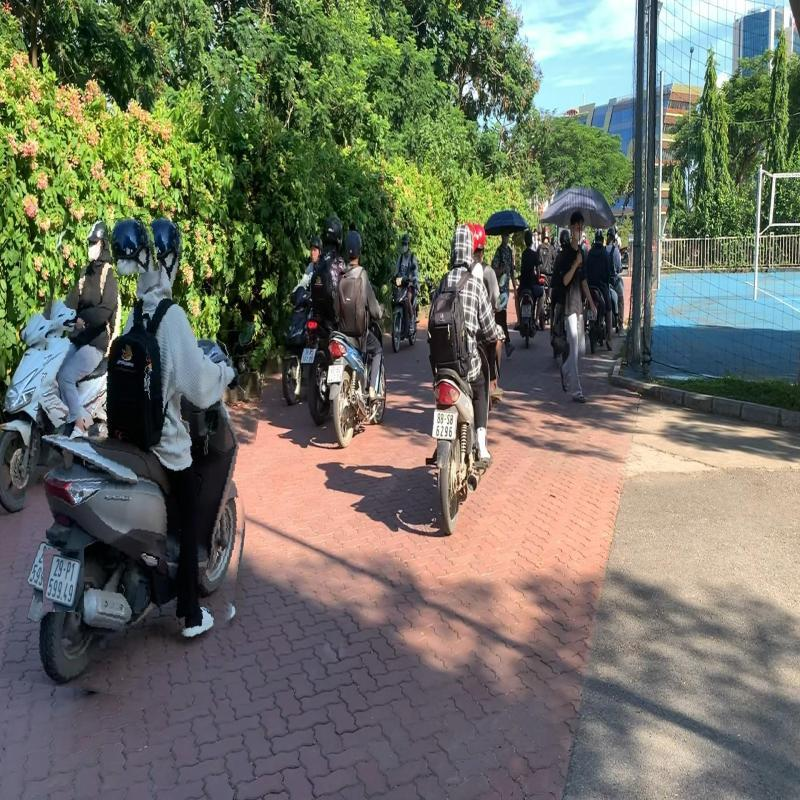helmet: (107, 214, 157, 276)
licenseplate: (43, 549, 84, 612)
motorcyclist: (15, 204, 268, 702)
